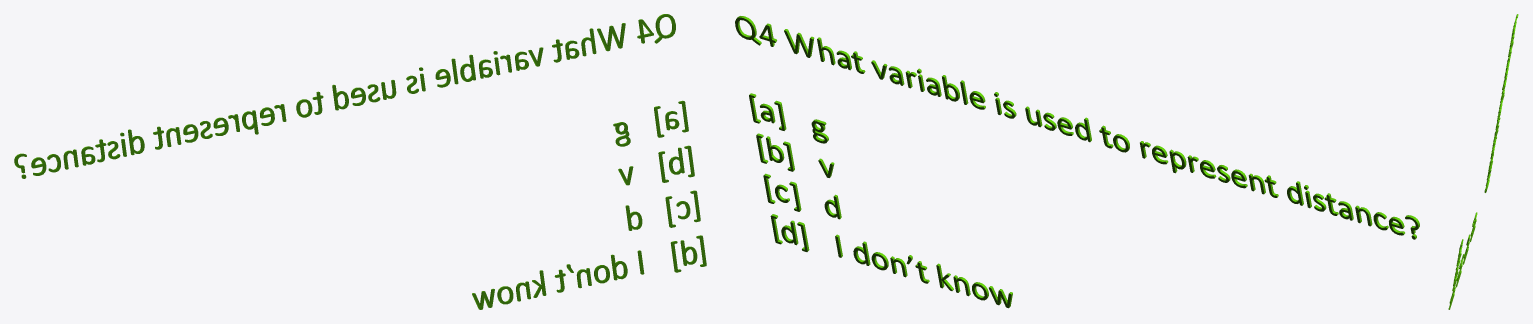
Rendered from AST_q4.fbx.
3 renders of one model, left to right at view 1: azimuth 30°, elevation 25°; view 2: azimuth 150°, elevation 25°; view 3: azimuth 270°, elevation 25°, orthographic. The views are drawn at different scales.
Parts seen in each view (by area): view 1: q4; view 2: q4; view 3: q4.
Part boxes in pixels (bbox=[...]): q4: bbox=[14, 14, 706, 309]; q4: bbox=[735, 16, 1419, 308]; q4: bbox=[1448, 14, 1518, 309].
Bounding box in the file's own units: 120 × 41.35 × 20.38.
